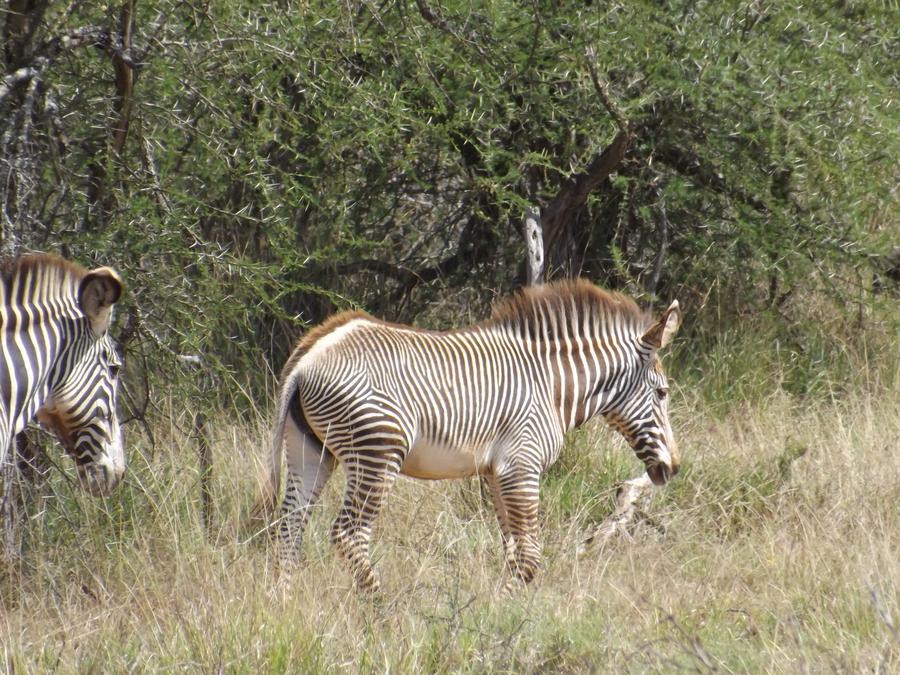zebra_grevys: (267, 287, 549, 477)
